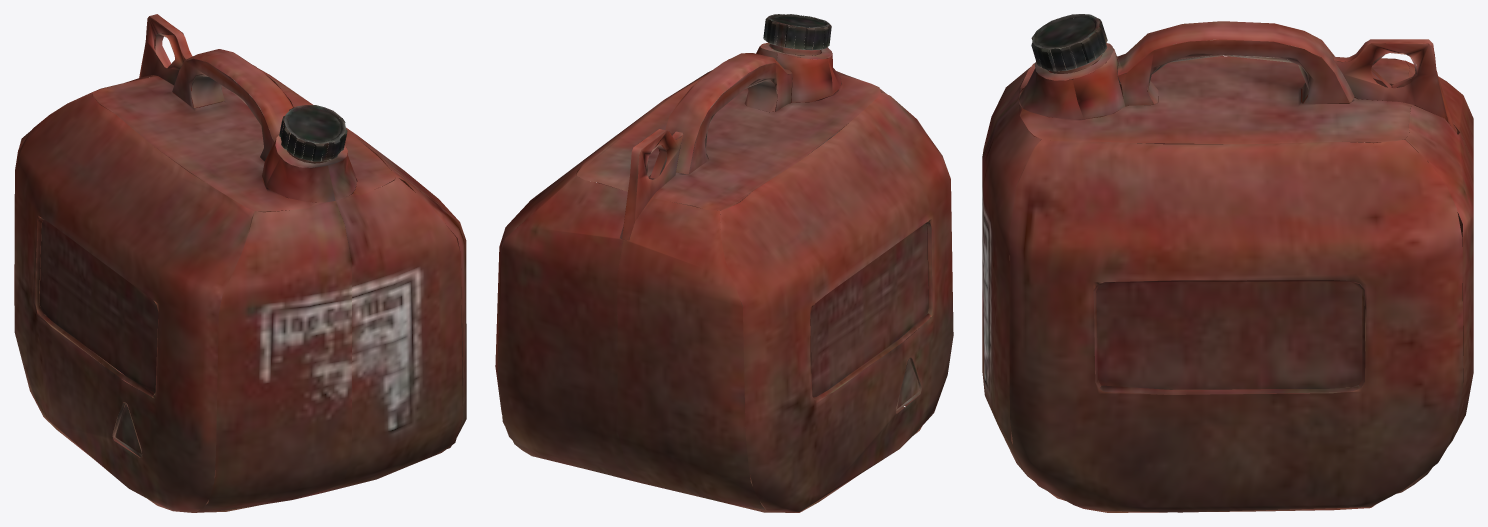
File: jerrycan.glb
3 views of the same model, side by side, from view 1: azimuth 30°, elevation 25°; view 2: azimuth 150°, elevation 25°; view 3: azimuth 270°, elevation 25° (orthographic). The views are drawn at different scales.
Visible parts, largest first — view 1: plastic_jerrycan; view 2: plastic_jerrycan; view 3: plastic_jerrycan.
Boxes of the visible parts, x1,y1,x2,y2 form: plastic_jerrycan: (14, 14, 466, 512); plastic_jerrycan: (495, 14, 953, 512); plastic_jerrycan: (982, 14, 1473, 512).
Size of the model in its own units: 0.2676 by 0.3186 by 0.3399.
Materials: 1 (1 with a texture image).
